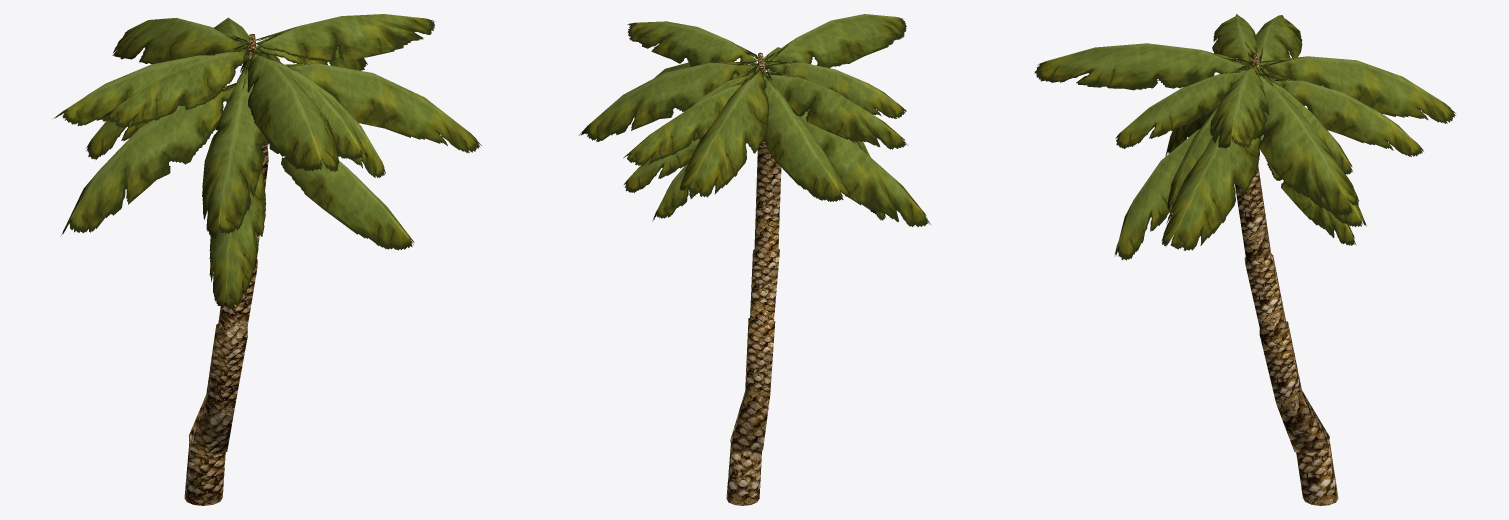
Rendered from SM_TI_Palm_Tree_2.fbx.
The picture shows the model from 3 angles, left to right: view 1: azimuth 30°, elevation 25°; view 2: azimuth 150°, elevation 25°; view 3: azimuth 270°, elevation 25°; orthographic projection. The views are drawn at different scales.
Parts seen in each view (by area): view 1: SM_TI_Palm_Tree_2; view 2: SM_TI_Palm_Tree_2; view 3: SM_TI_Palm_Tree_2.
Part boxes in pixels (<box>): SM_TI_Palm_Tree_2: <box>53,14,481,505</box>; SM_TI_Palm_Tree_2: <box>579,14,930,505</box>; SM_TI_Palm_Tree_2: <box>1034,14,1455,505</box>.
Bounding box in the file's own units: 8.39 × 9.17 × 9.15.
